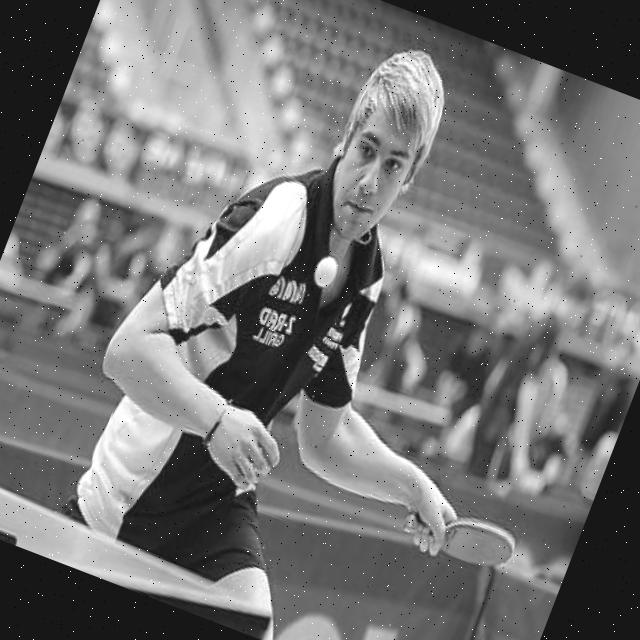ping-pong-ball: (309, 252, 342, 294)
